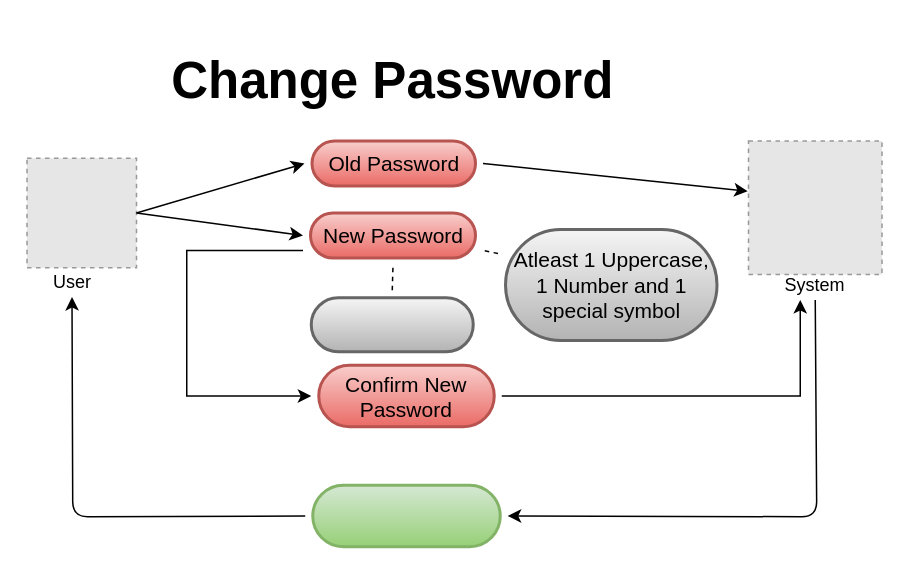
The diagram is 908 pixels wide and 575 high, and some of its shapes have lost their labels. Grey dashed boxes stand in for pictures. Here are the shapes that lost their labels. From the top down, the box of each, then its label:
(309, 296, 474, 352): Min 8 Characters
(310, 483, 501, 548): Downloaded
